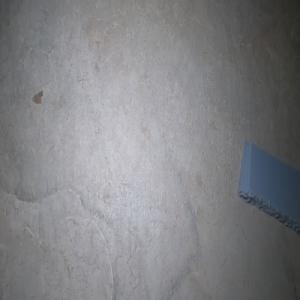PlasticPart: (237, 140, 299, 234)
